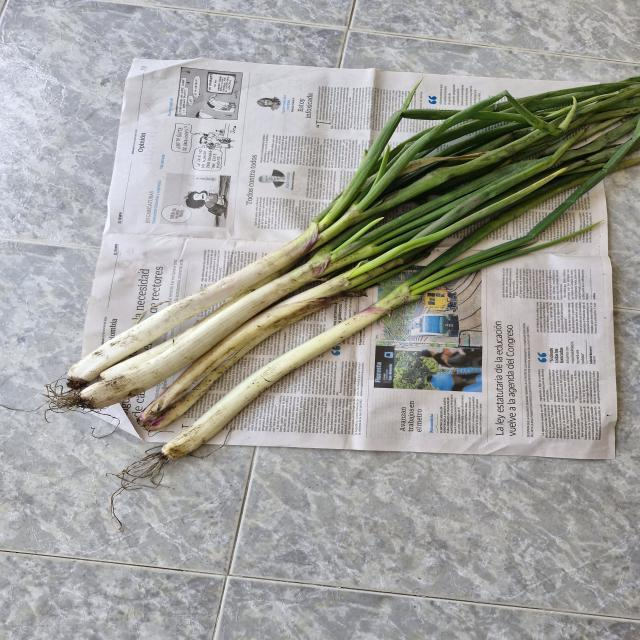green_onion: (46, 66, 635, 419), (136, 196, 582, 478)
